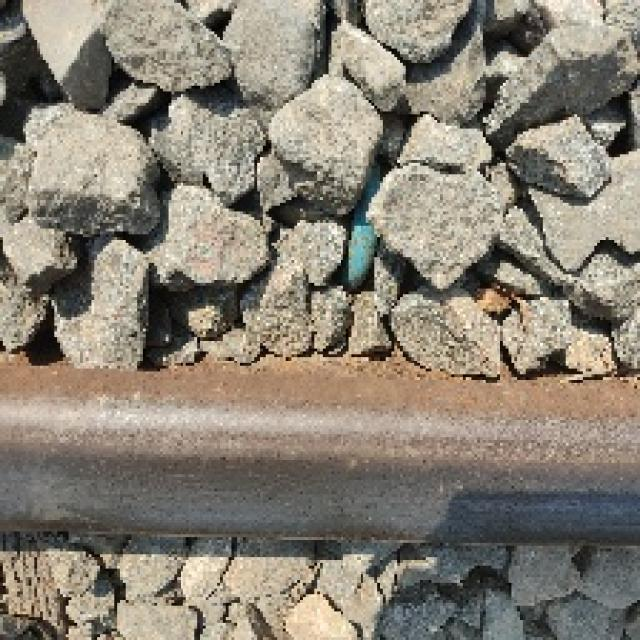Good Fasteners: (343, 166, 377, 286)
